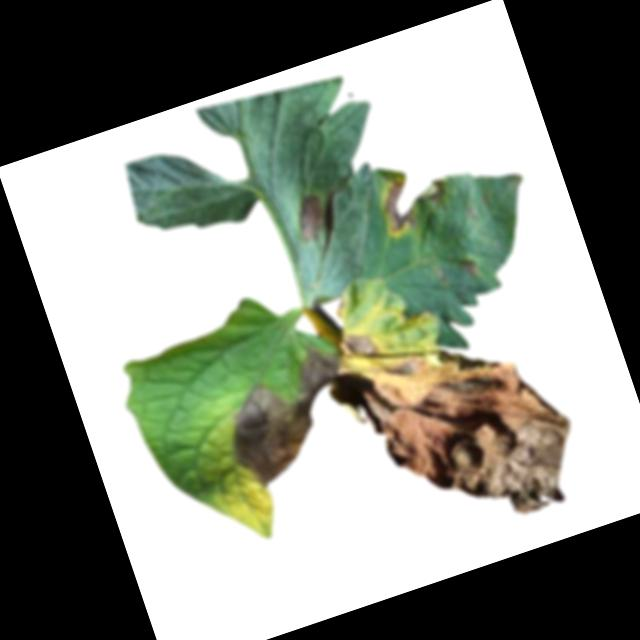Early_blight: (356, 313, 593, 552), (207, 343, 370, 494), (373, 165, 457, 240), (288, 193, 330, 243), (338, 325, 380, 362), (455, 252, 479, 277)
